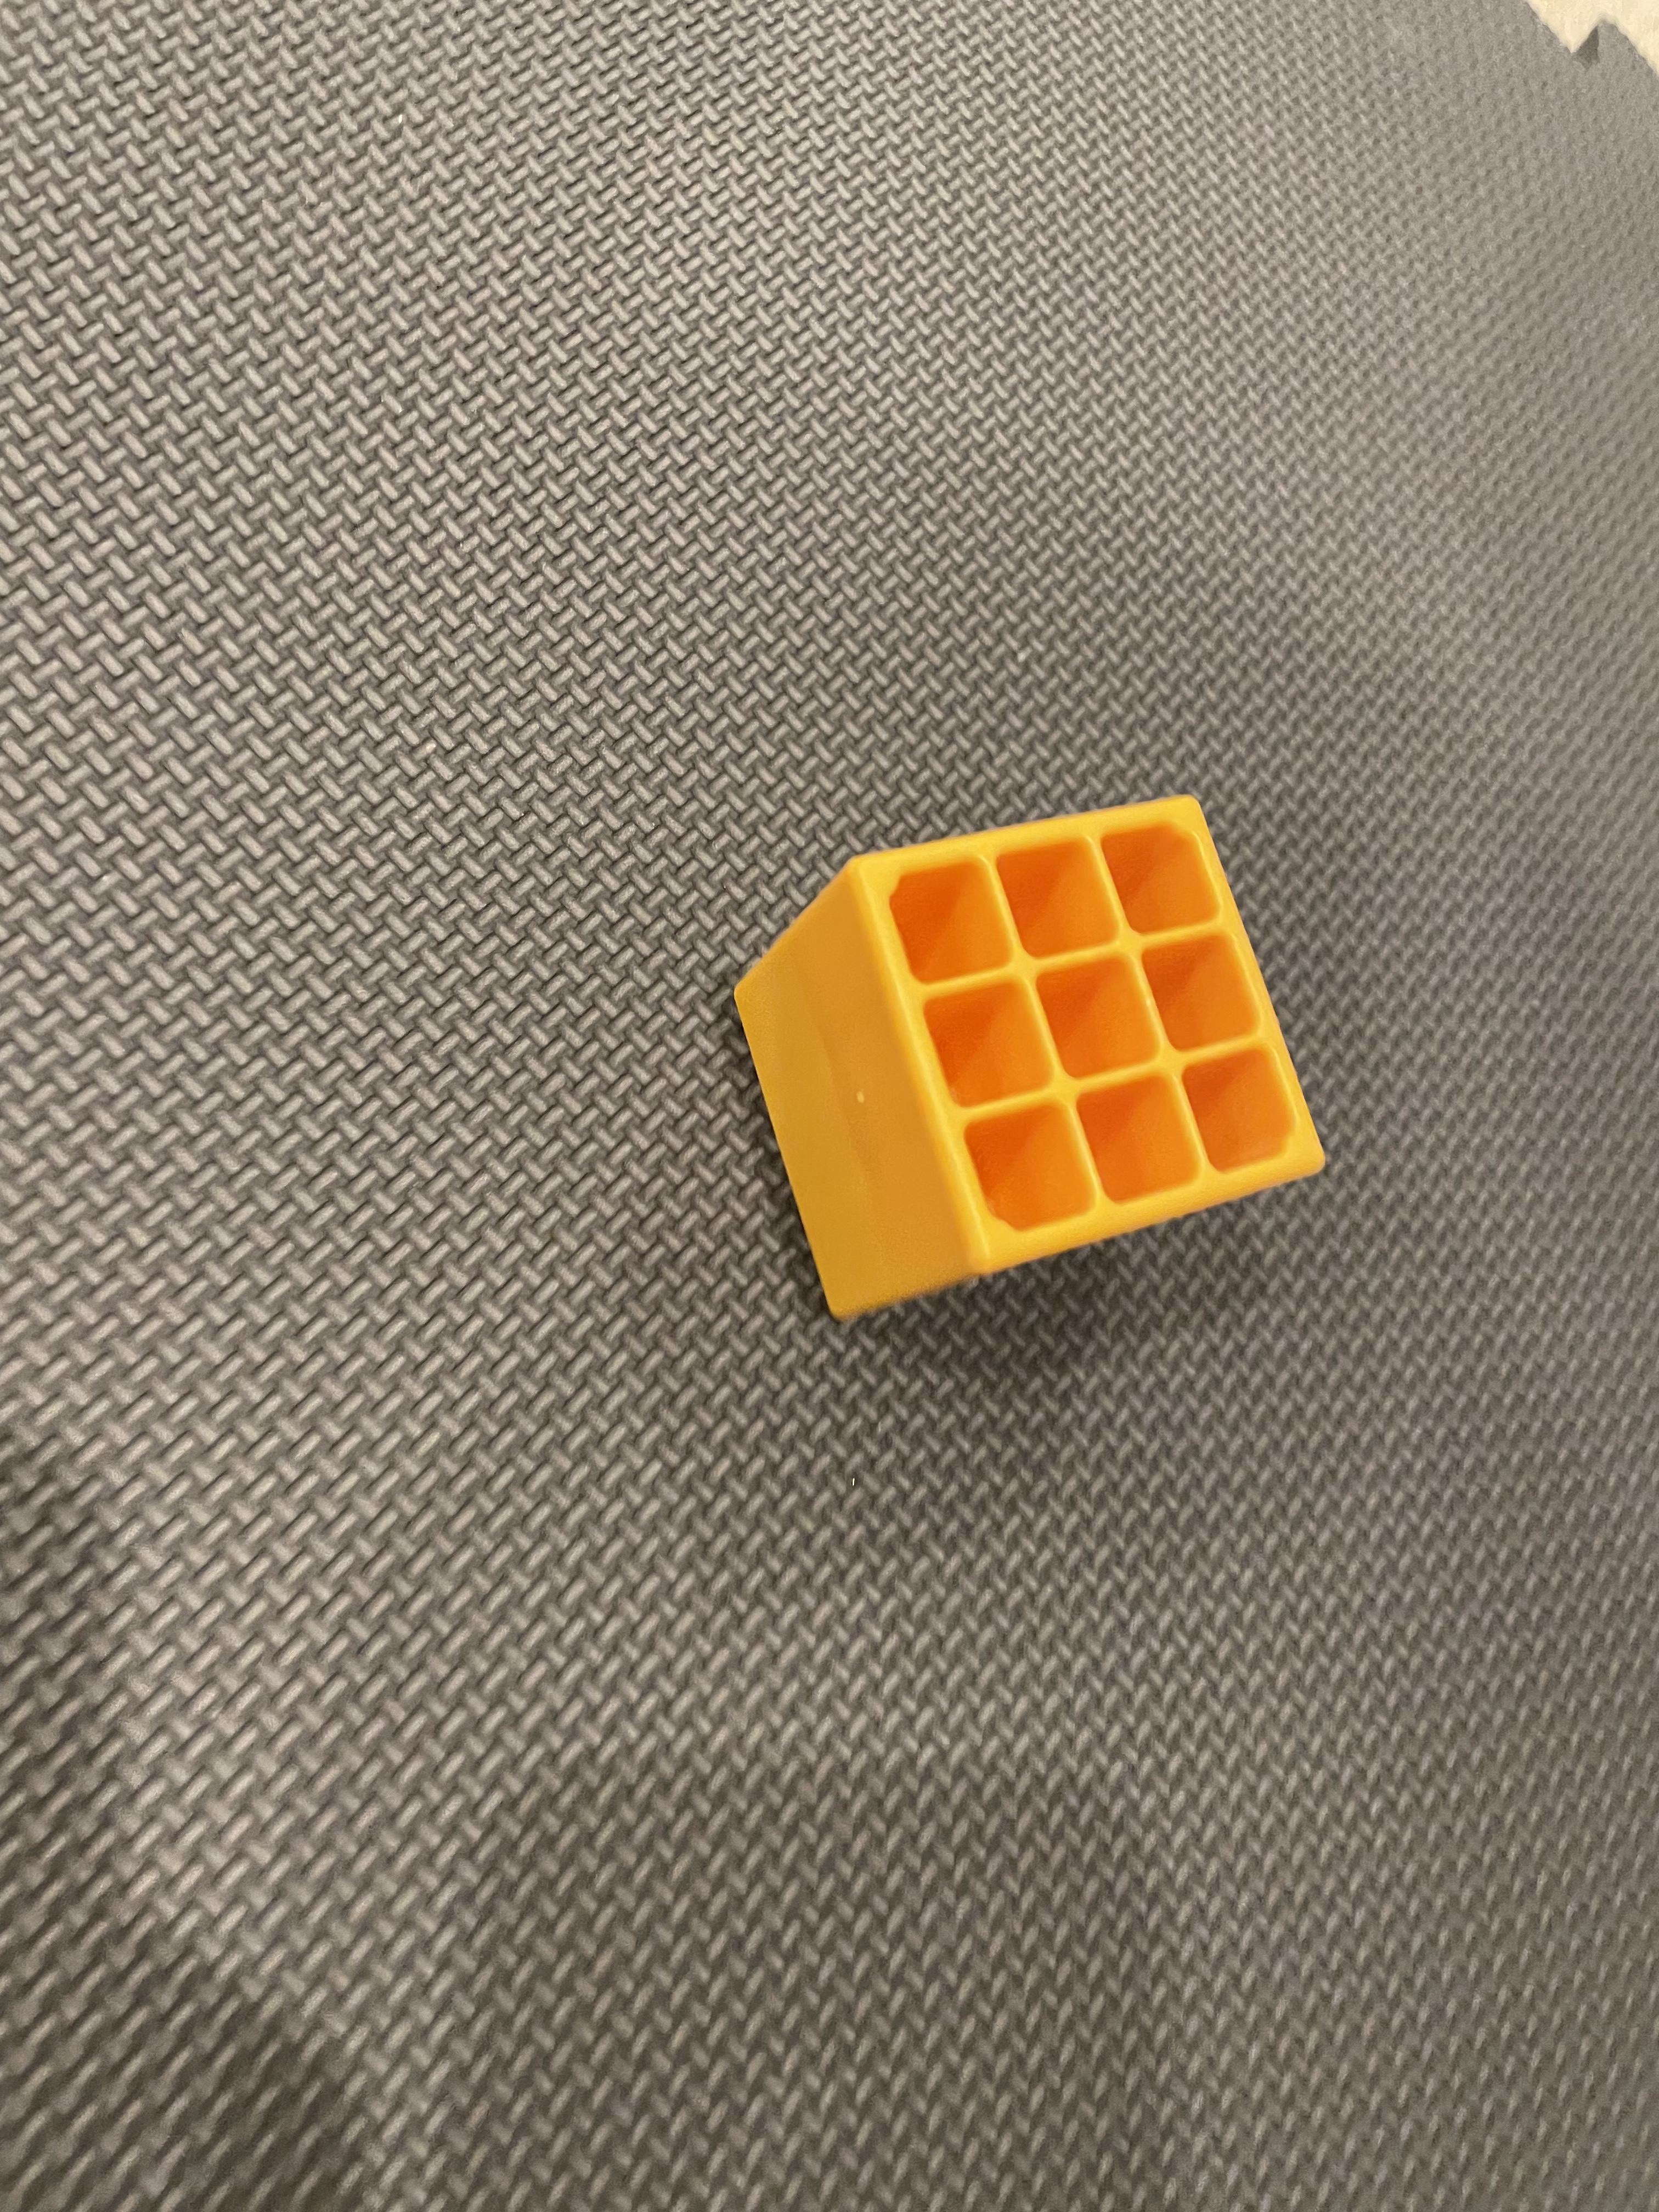cube: (655, 697, 1410, 1407)
